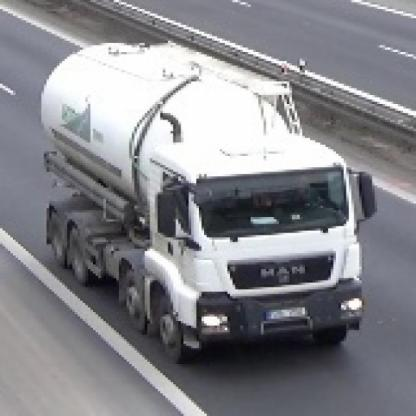truck: (45, 39, 381, 363)
